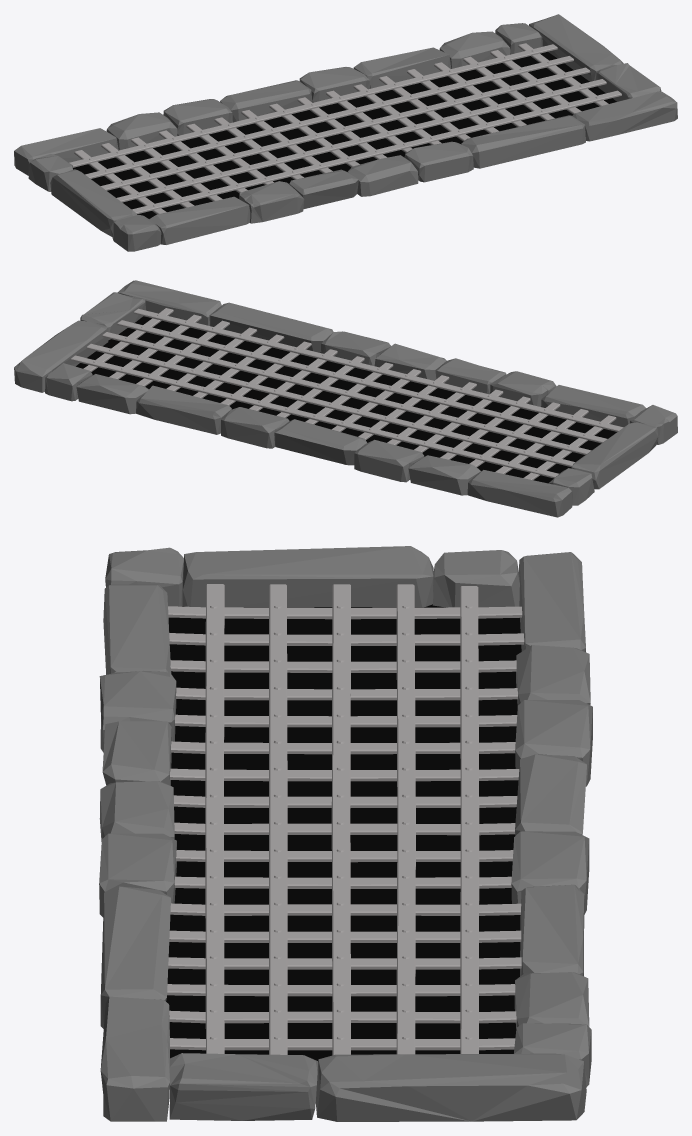
File: LGESpikeStoneGrate.fbx
The picture shows the model from 3 angles, top to bottom: view 1: azimuth 30°, elevation 25°; view 2: azimuth 150°, elevation 25°; view 3: azimuth 270°, elevation 25°; orthographic projection. The views are drawn at different scales.
Visible parts, largest first — view 1: LGESpikeStoneGrate; view 2: LGESpikeStoneGrate; view 3: LGESpikeStoneGrate.
Boxes of the visible parts, box(x1,y1,x2,y2) form: LGESpikeStoneGrate: box(14, 14, 677, 251); LGESpikeStoneGrate: box(14, 280, 677, 517); LGESpikeStoneGrate: box(99, 546, 592, 1121).
Size of the model in its own units: 296 by 11.33 by 115.
